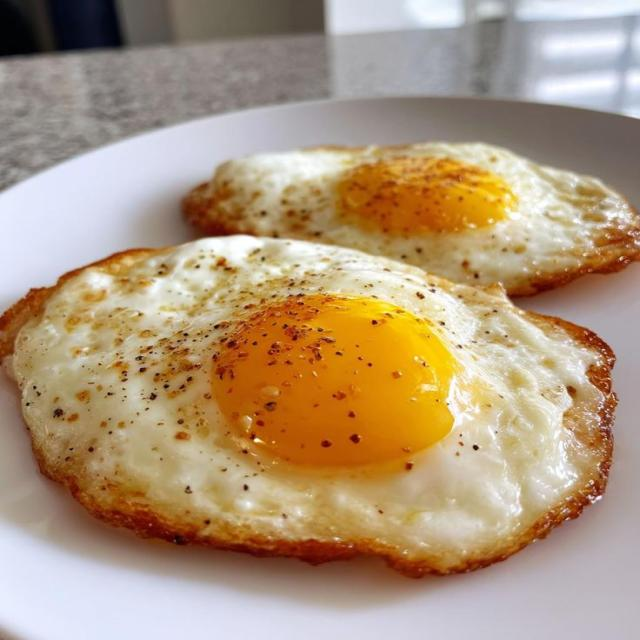fryed egg: (0, 236, 615, 574), (183, 142, 639, 296)
